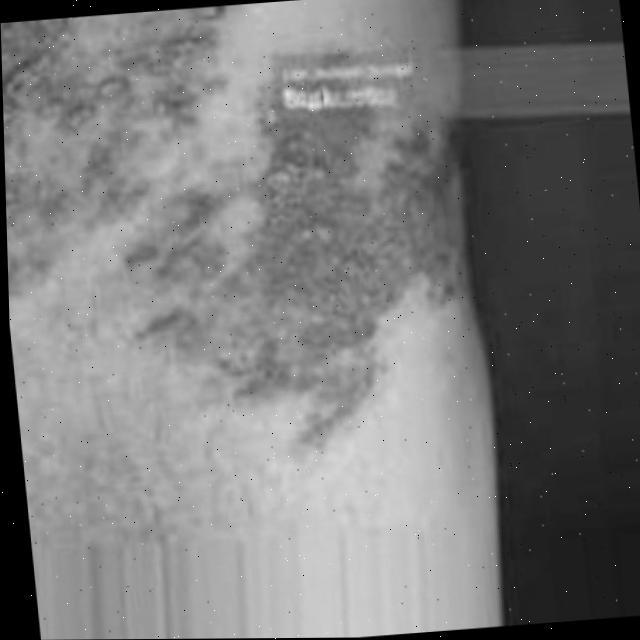Shingles: (98, 132, 472, 464), (0, 4, 237, 151)
